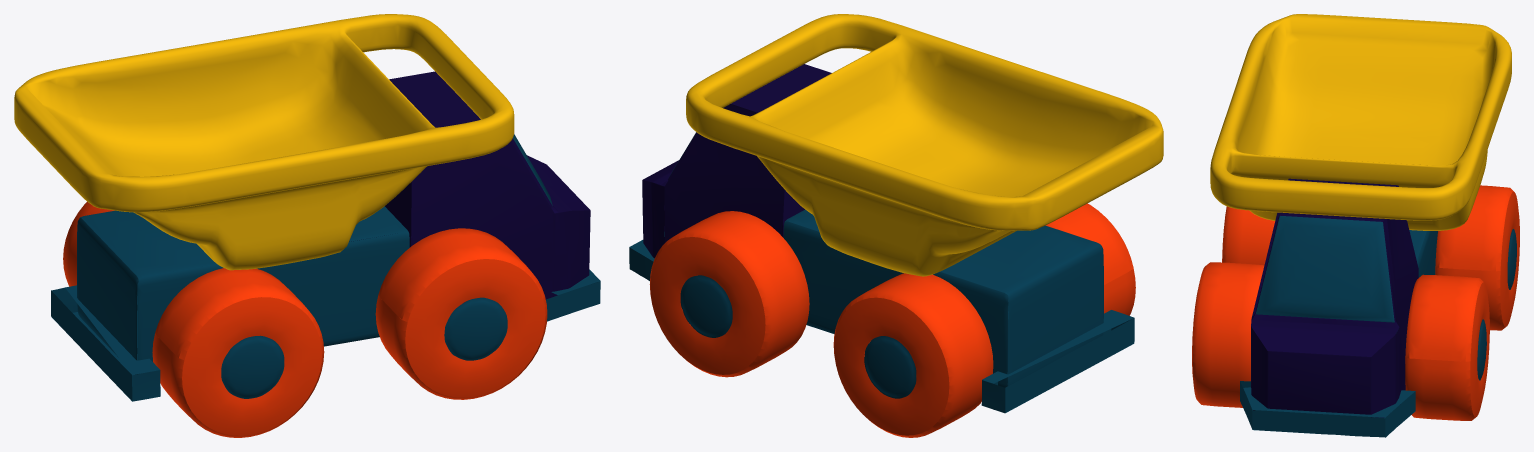
The model's file is open_top_machine.FBX.
3 views of the same model, side by side, from view 1: azimuth 30°, elevation 25°; view 2: azimuth 150°, elevation 25°; view 3: azimuth 270°, elevation 25° (orthographic). The views are drawn at different scales.
Parts seen in each view (by area): view 1: Object05; view 2: Object05; view 3: Object05.
Part boxes in pixels (x1,y1,x2,y2): Object05: (14,14,600,437); Object05: (629,14,1163,437); Object05: (1192,14,1519,437).
Size of the model in its own units: 0.538 by 0.2757 by 0.3388.
